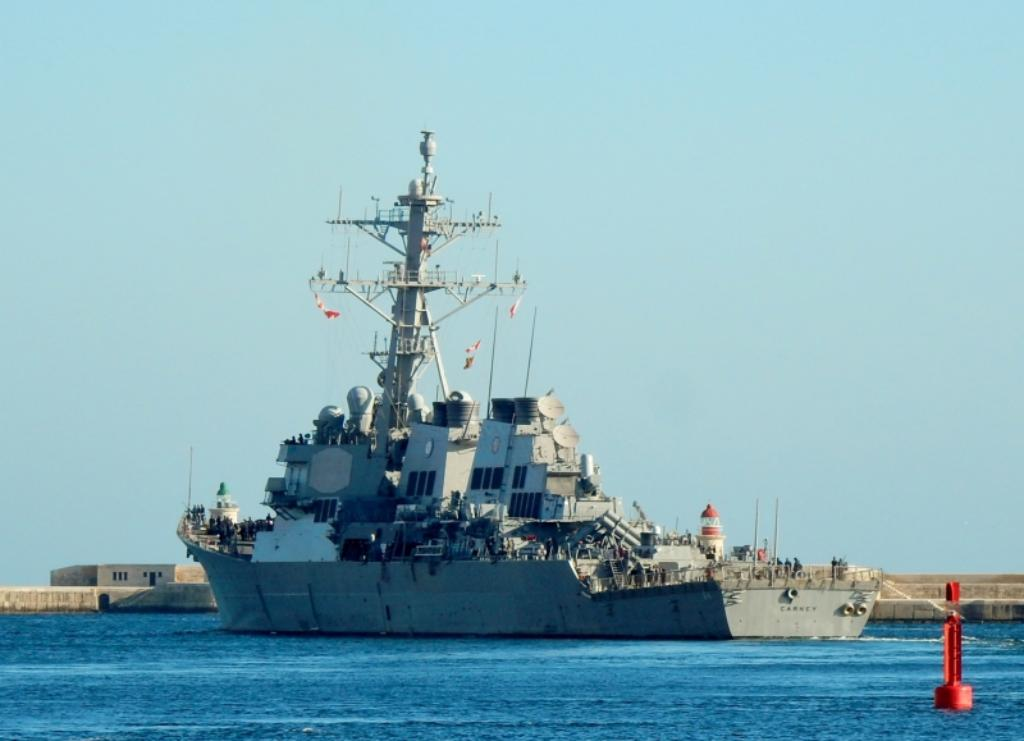Warship: (172, 127, 888, 646)
